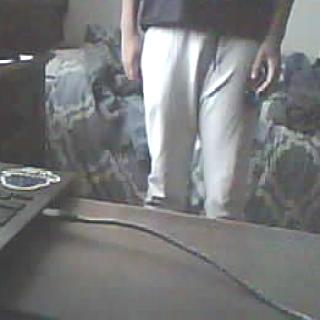White Sweatpants: (126, 33, 273, 222)
